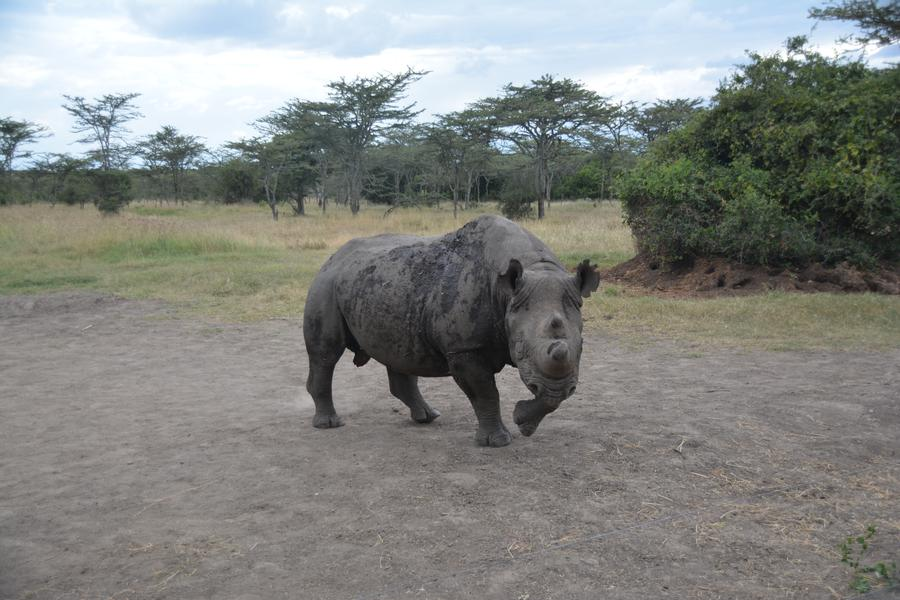rhino: (317, 204, 567, 417)
